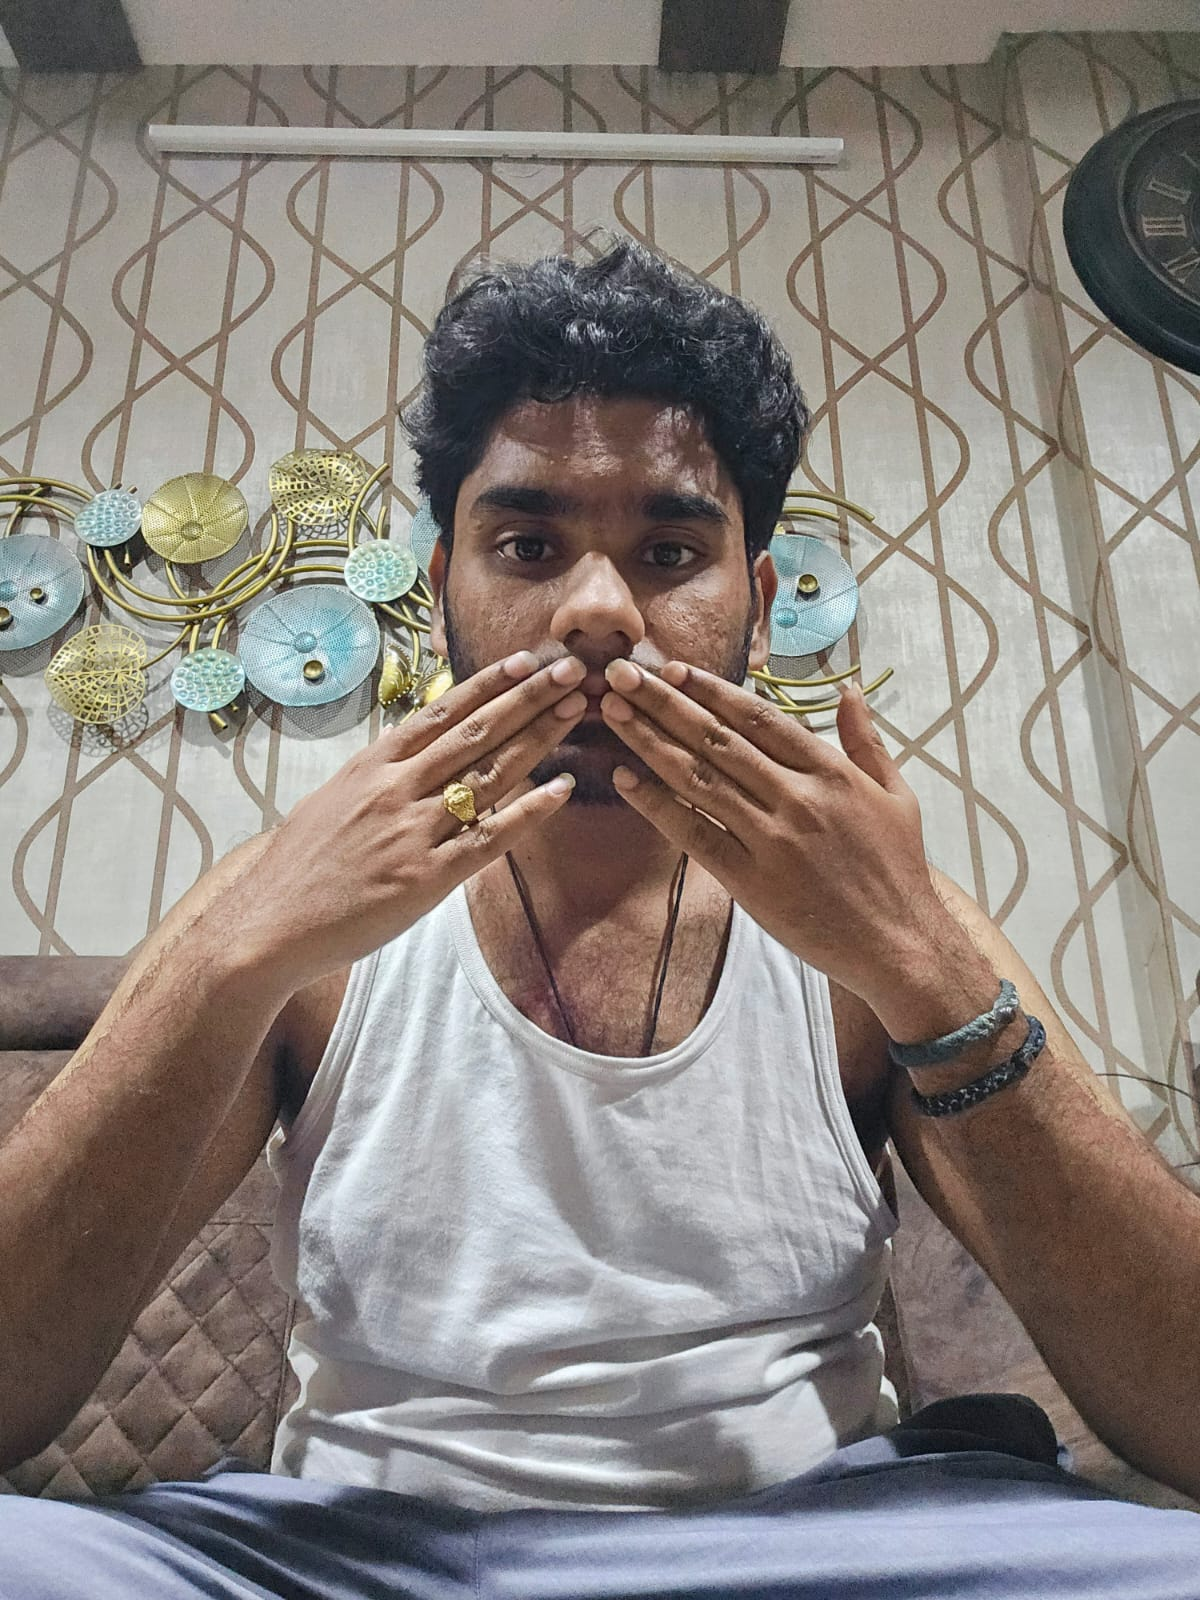thank you: (205, 648, 949, 988)
